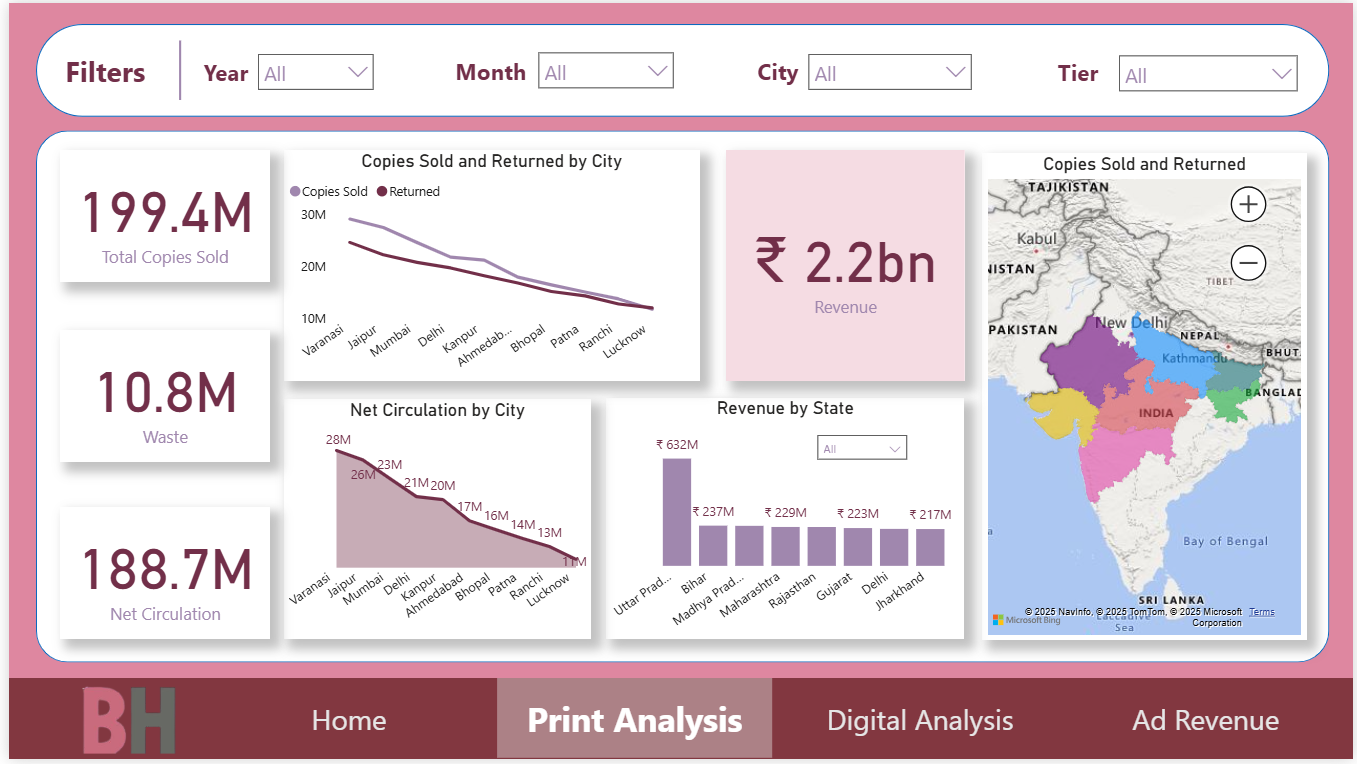

Layout of this report page (visuals, bound fields, positions):
{"tool":"powerbi","page":{"name":"Print Analysis","canvas":[1280,720],"ordinal":1},"visuals":[{"type":"shape","box":[25,20,1231.7,88.3],"z":0},{"type":"textbox","box":[0,642.9,1280,77.1],"z":0,"group":"g6"},{"type":"group","id":"g1","title":"Group 6","box":[48.3,35,200,65],"z":500},{"type":"shape","box":[25,121.7,1231.7,506.7],"z":1000},{"type":"card","fields":{"Values":["Sum(fact_print_sales.Copies Sold)"]},"box":[48.3,140,200,125],"z":3000},{"type":"card","fields":{"Values":["Sum(fact_print_sales.Net_Circulation)"]},"box":[48.3,480,200,125],"z":4000},{"type":"pageNavigator","box":[192.3,643.5,1080.6,76.2],"z":4000,"group":"g6"},{"type":"card","fields":{"Values":["Sum(fact_print_sales.copies_returned)"]},"box":[48.3,311.7,200,125],"z":5000},{"type":"image","box":[34.3,642.9,158.6,77.1],"z":5000,"group":"g6"},{"type":"lineChart","fields":{"Category":["fact_print_sales.City"],"Y":["Sum(fact_print_sales.Copies Sold)"],"Y2":["Sum(fact_print_sales.copies_returned)"]},"box":[261.7,140,396.7,220],"z":6000},{"type":"areaChart","fields":{"Category":["fact_print_sales.City"],"Y":["Sum(fact_print_sales.Net_Circulation)"]},"box":[261.7,376.7,293.3,228.3],"z":7000},{"type":"filledMap","title":"Copies Sold and Returned","fields":{"Category":["fact_print_sales.State"],"Series":["fact_print_sales.City"]},"box":[927.1,142.9,308.6,464.3],"z":8000},{"type":"columnChart","fields":{"Y":["Sum(fact_ad_revenue.revenue_in_inr)"],"Category":["dim_edition.State"]},"box":[568.6,375.7,341.4,230],"z":9000},{"type":"slicer","fields":{"Values":["dim_ad_category.standard_ad_category"]},"box":[760,401.7,105,53.3],"z":10000},{"type":"textbox","box":[48.3,40,171.7,60],"z":11000,"group":"g1"},{"type":"card","fields":{"Values":["Sum(fact_ad_revenue.revenue_in_inr)"]},"box":[682.9,140,227.1,220],"z":11000},{"type":"shape","box":[76.6,35,171.7,56.7],"z":12000,"group":"g1"},{"type":"group","id":"g2","title":"Group 2","box":[165,38.3,193.3,53.3],"z":12000},{"type":"group","id":"g3","title":"Group 3","box":[406.1,36.7,236.7,60],"z":13000},{"type":"group","id":"g4","title":"Group 4","box":[690.6,38.3,236.7,60],"z":14000},{"type":"textbox","box":[165,45,85,45],"z":14000,"group":"g2"},{"type":"slicer","fields":{"Values":["calender.Date.Variation.Date Hierarchy.Year"]},"box":[228.3,38.3,130,53.3],"z":15000,"group":"g2"},{"type":"group","id":"g5","title":"Group 5","box":[975,40,261.7,60],"z":15000},{"type":"textbox","box":[406.1,43.4,106.7,45],"z":16000,"group":"g3"},{"type":"group","id":"g6","title":"Group 1","box":[0,642.9,1280,77.1],"z":16000},{"type":"textbox","box":[690.6,43.3,85,45],"z":17000,"group":"g4"},{"type":"slicer","fields":{"Values":["fact_print_sales.newmonth.Variation.Date Hierarchy.Month"]},"box":[494.4,36.7,148.3,60],"z":18000,"group":"g3"},{"type":"slicer","fields":{"Values":["dim_city.city"]},"box":[752.3,38.3,175,60],"z":19000,"group":"g4"},{"type":"textbox","box":[975,45,85,45],"z":20000,"group":"g5"},{"type":"slicer","fields":{"Values":["dim_city.tier"]},"box":[1046.7,40,190,60],"z":21000,"group":"g5"}]}

Visuals, with their boxes in screenshot pixels (x1, y1, x2, y2), scaled from the page's 1280x720 canvas onto the 1357x764 screenshot:
shape: Rect(27, 21, 1332, 115)
textbox: Rect(0, 682, 1356, 763)
"Group 6" group: Rect(51, 37, 263, 106)
shape: Rect(27, 129, 1332, 667)
card - Sum(fact_print_sales.Copies Sold): Rect(51, 149, 263, 281)
card - Sum(fact_print_sales.Net_Circulation): Rect(51, 509, 263, 642)
pageNavigator: Rect(204, 683, 1349, 763)
card - Sum(fact_print_sales.copies_returned): Rect(51, 331, 263, 463)
image: Rect(36, 682, 205, 763)
lineChart - fact_print_sales.City x Sum(fact_print_sales.Copies Sold): Rect(277, 149, 698, 382)
areaChart - fact_print_sales.City x Sum(fact_print_sales.Net_Circulation): Rect(277, 400, 588, 642)
"Copies Sold and Returned" filledMap: Rect(983, 152, 1310, 644)
columnChart - Sum(fact_ad_revenue.revenue_in_inr) x dim_edition.State: Rect(603, 399, 965, 643)
slicer - dim_ad_category.standard_ad_category: Rect(806, 426, 917, 483)
textbox: Rect(51, 42, 233, 106)
card - Sum(fact_ad_revenue.revenue_in_inr): Rect(724, 149, 965, 382)
shape: Rect(81, 37, 263, 97)
"Group 2" group: Rect(175, 41, 380, 97)
"Group 3" group: Rect(431, 39, 681, 103)
"Group 4" group: Rect(732, 41, 983, 104)
textbox: Rect(175, 48, 265, 96)
slicer - calender.Date.Variation.Date Hierarchy.Year: Rect(242, 41, 380, 97)
"Group 5" group: Rect(1034, 42, 1311, 106)
textbox: Rect(431, 46, 544, 94)
"Group 1" group: Rect(0, 682, 1356, 763)
textbox: Rect(732, 46, 822, 94)
slicer - fact_print_sales.newmonth.Variation.Date Hierarchy.Month: Rect(524, 39, 681, 103)
slicer - dim_city.city: Rect(798, 41, 983, 104)
textbox: Rect(1034, 48, 1124, 96)
slicer - dim_city.tier: Rect(1110, 42, 1311, 106)
